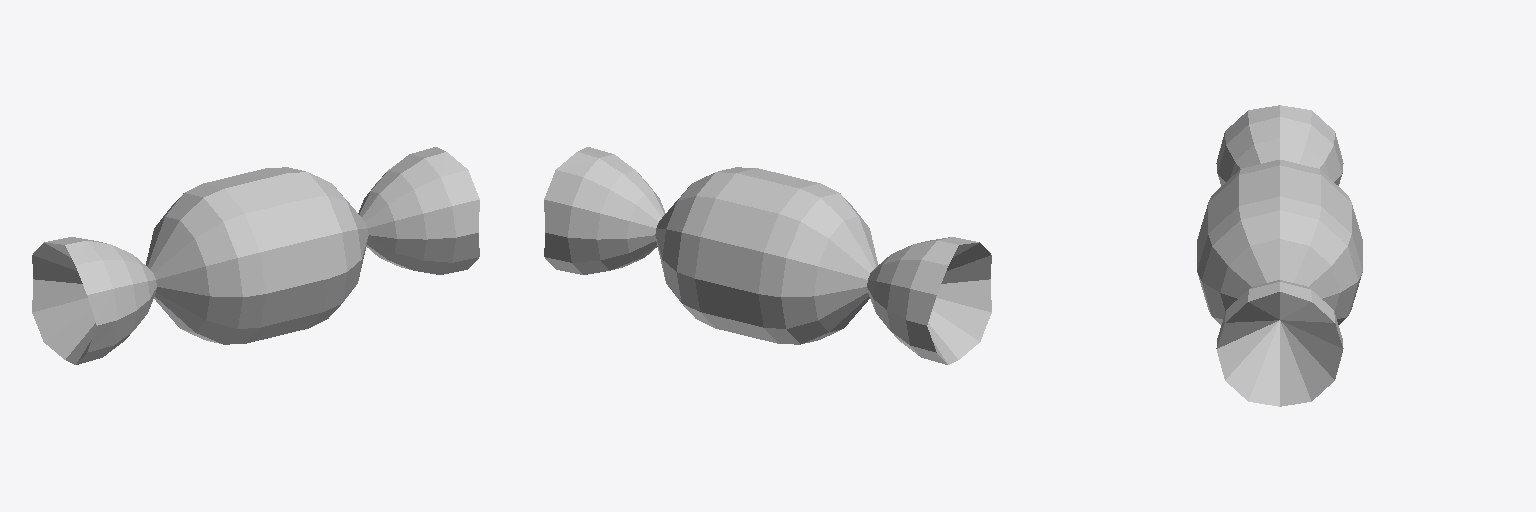
3 views of the same model, side by side, from view 1: azimuth 30°, elevation 25°; view 2: azimuth 150°, elevation 25°; view 3: azimuth 270°, elevation 25° (orthographic).
Parts seen in each view (by area): view 1: candyA_Cylinder.012; view 2: candyA_Cylinder.012; view 3: candyA_Cylinder.012.
Boxes of the visible parts, x1=… form: candyA_Cylinder.012: x1=32, y1=147, x2=479, y2=364; candyA_Cylinder.012: x1=544, y1=147, x2=991, y2=364; candyA_Cylinder.012: x1=1197, y1=105, x2=1362, y2=406.
Bounding box in the file's own units: 0.9694 × 0.3546 × 0.3546.